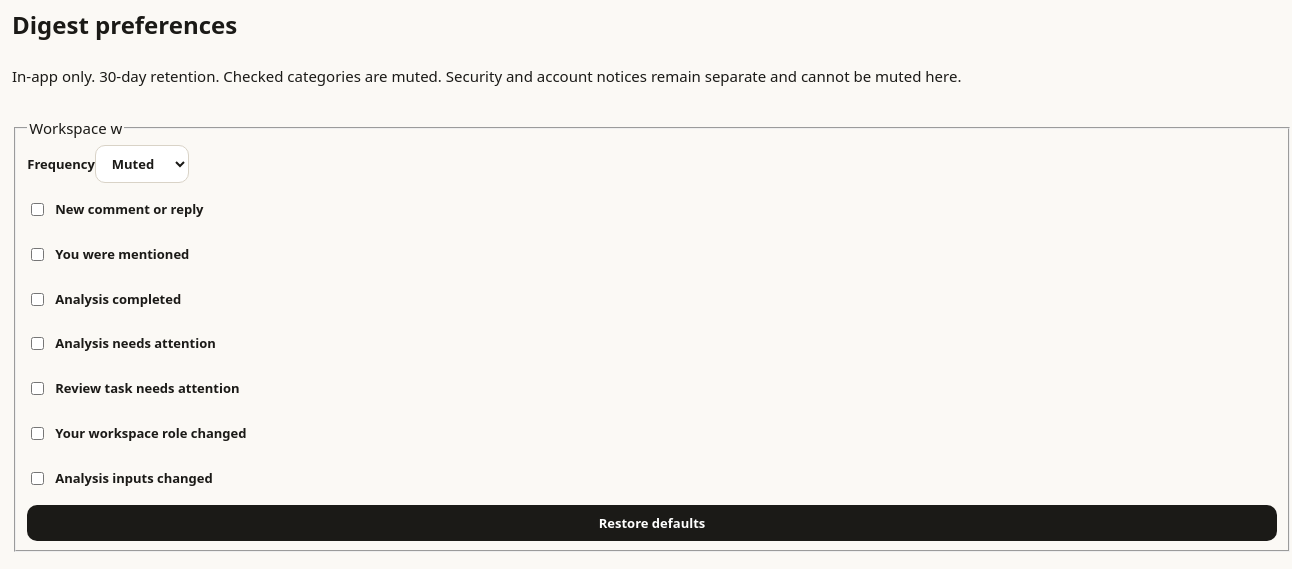
Test: reports preference errors and handles persistent empty settings
This screenshot has width=1292, height=569.
expect the dropdown labelled "Frequency" is shown: met, box [95, 145, 189, 183]
Click the button: x=652, y=523 [27, 505, 1277, 541]
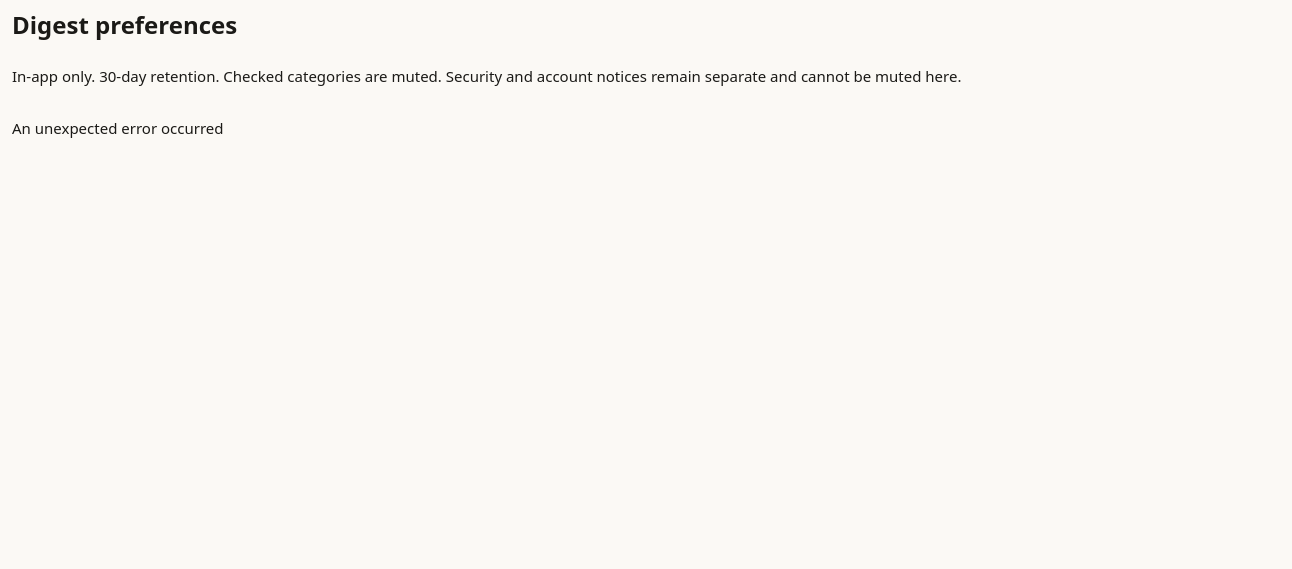
expect the message "An unexpected error occurred" is shown: met, box [12, 118, 224, 138]
expect the label labelled "Frequency" is gone: met
